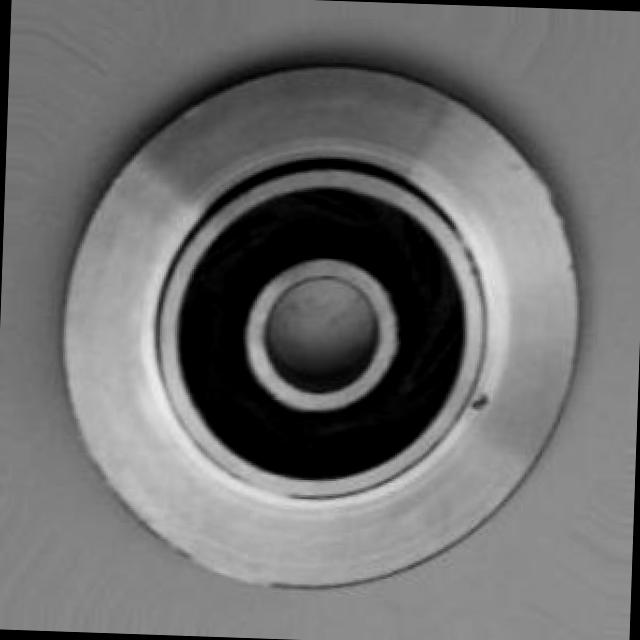Defect: (465, 386, 495, 420)
